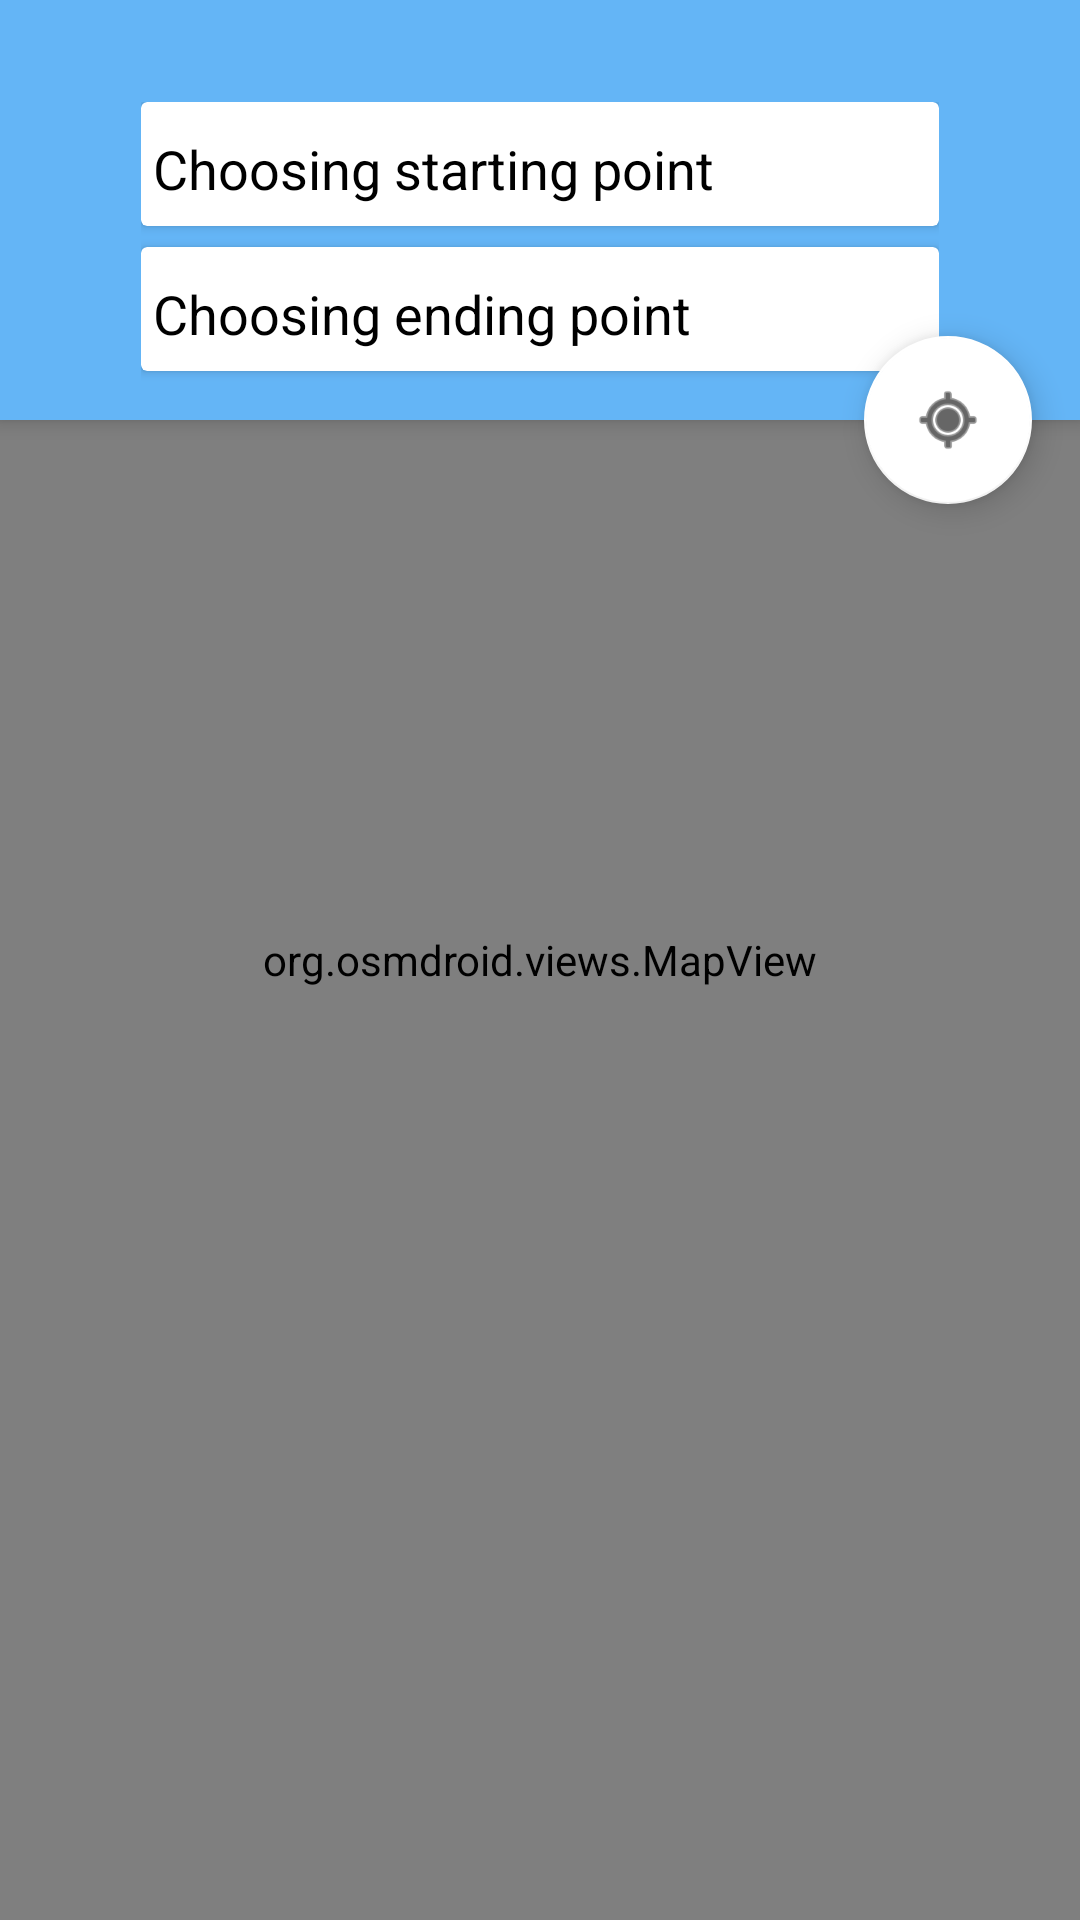

Screen size 1080 × 1920. Icon name, then its center in pixels as point (x, y):
mylocation: point (948, 420)
